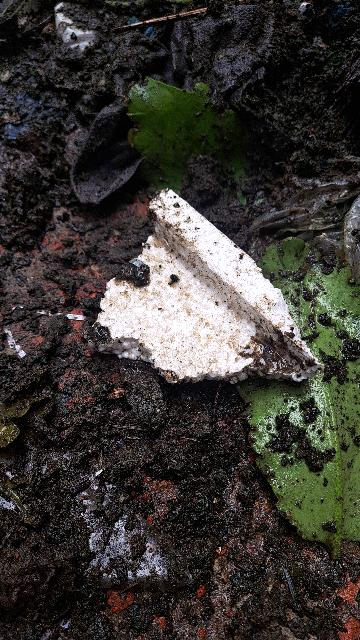cocksheet: (99, 147, 321, 413)
